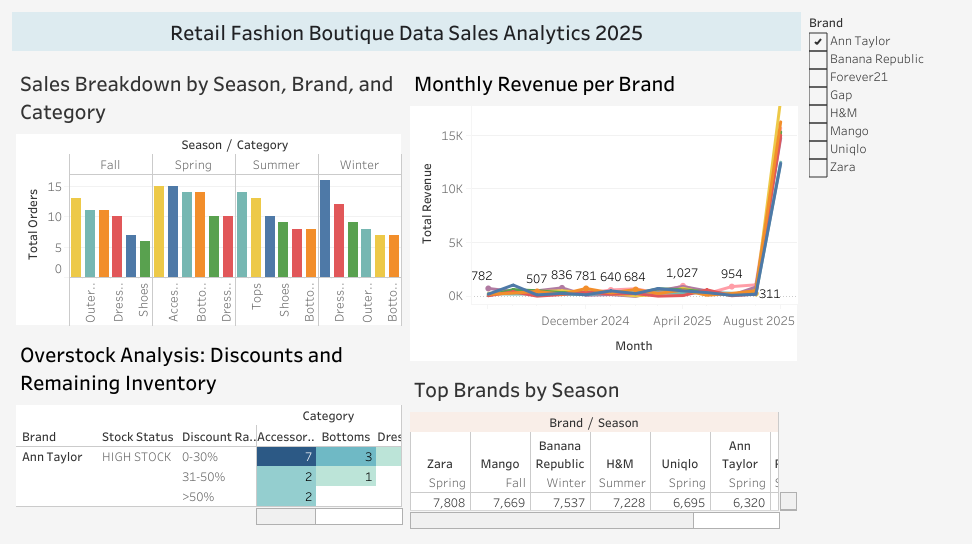

What the dashboard file says about the page in this screenshot:
{"tool":"tableau","page":{"name":"Dashboard 1","canvas":[1000,1000],"units":"permille","ordinal":0},"visuals":[{"type":"worksheet","title":"Sheet 7","mark":"Square","rows":["brand","stock_status","discount_range"],"cols":["category"],"box":[6.8,14.5,608.9,305.3]},{"type":"worksheet","title":"Sheet 1","mark":"Automatic","rows":["return_reason"],"cols":["total"],"box":[615.7,14.5,377.4,485.5]},{"type":"worksheet","title":"Sheet 4","mark":"Automatic","cols":["brand","season"],"box":[6.8,319.8,397.8,346.9]},{"type":"worksheet","title":"Sheet 6","mark":"Automatic","rows":["discount - Split 3"],"cols":["discount - Split 1"],"box":[404.6,319.8,211.1,346.9]},{"type":"worksheet","title":"Sheet 2","mark":"Automatic","rows":["return_rate_percent"],"cols":["avg_rating"],"box":[615.7,500,377.4,485.5]},{"type":"worksheet","title":"Sheet 5","mark":"Automatic","rows":["total_revenue"],"cols":["month"],"box":[6.8,666.7,608.9,318.8]}]}

Visuals, with their boxes on the dashboard's canvas, which has no fixed pixel size, in thousandths of its width and height (x1, y1, x2, y2). These are canvas units, not pixel positions in the 972x544 screenshot, which may show the page scaled, cropped or inside an application window:
"Sheet 7" worksheet (Square marks): left=7, top=14, right=616, bottom=320
"Sheet 1" worksheet: left=616, top=14, right=993, bottom=500
"Sheet 4" worksheet: left=7, top=320, right=405, bottom=667
"Sheet 6" worksheet: left=405, top=320, right=616, bottom=667
"Sheet 2" worksheet: left=616, top=500, right=993, bottom=986
"Sheet 5" worksheet: left=7, top=667, right=616, bottom=986
